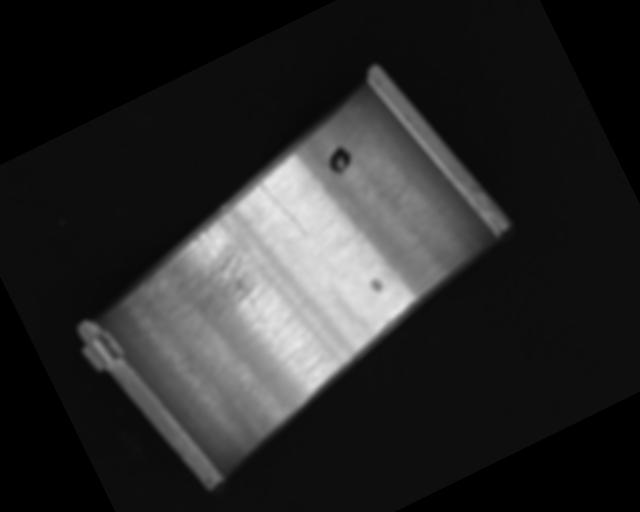blot: (321, 143, 356, 177)
bruise: (367, 275, 385, 295)
nick: (392, 162, 481, 272), (258, 174, 310, 246)
scratch: (125, 204, 278, 348)
